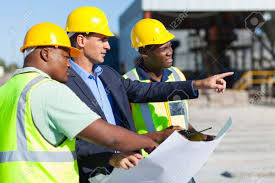helmet: (68, 7, 117, 36), (26, 23, 72, 50), (130, 18, 170, 46)
vest: (2, 75, 79, 183), (127, 67, 196, 156)
